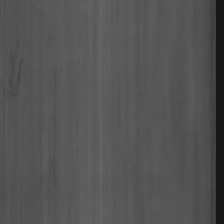water_spot: (6, 40, 26, 101)
